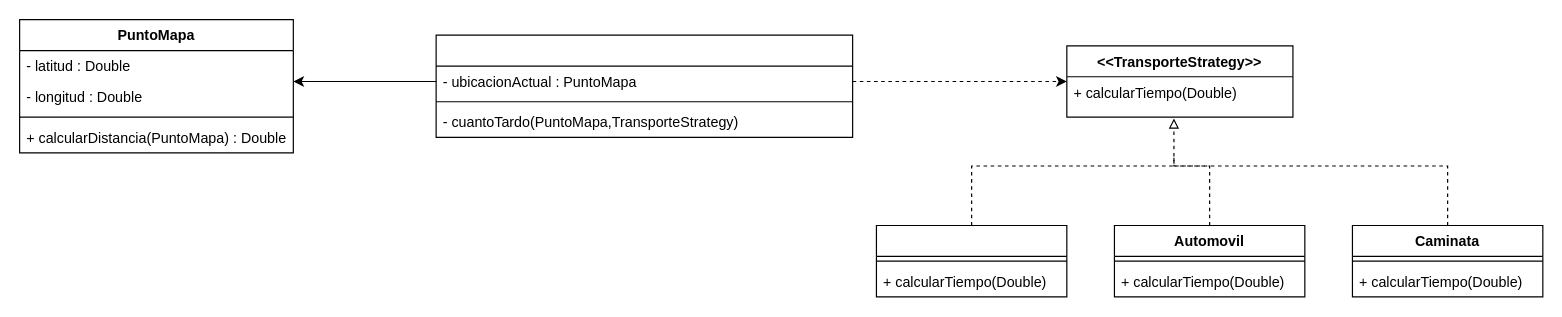
This 1562x317 diagram has some shape labels left out. Here are the shapes that lost their labels. From the top down, the box of each, then its label:
(435, 34, 853, 137): Usuario
(875, 224, 1067, 297): Bicicleta
